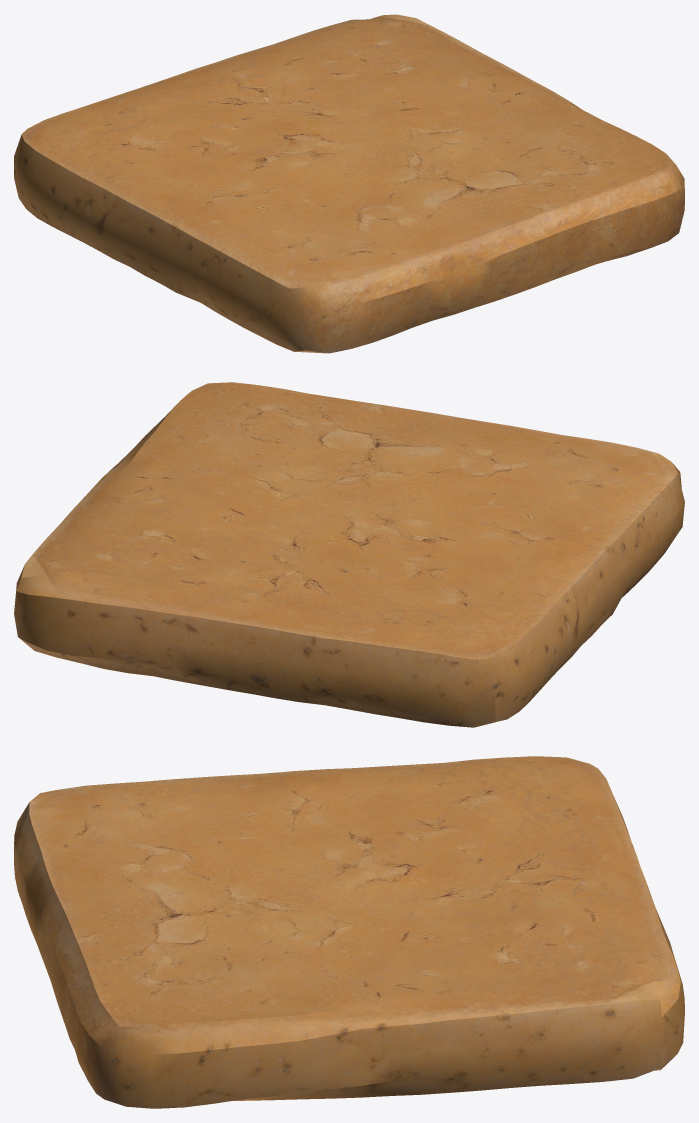
Rendered from t_Cork_Tile.glb.
3 views of the same model, one above another, from view 1: azimuth 30°, elevation 25°; view 2: azimuth 150°, elevation 25°; view 3: azimuth 270°, elevation 25° (orthographic). The views are drawn at different scales.
Parts seen in each view (by area): view 1: output; view 2: output; view 3: output.
Boxes of the visible parts, x1,y1,x2,y2 form: output: (14,14,684,353); output: (14,382,684,727); output: (14,756,684,1108).
Size of the model in its own units: 1.91 by 0.2947 by 1.91.
Materials: 1 (1 with a texture image).
